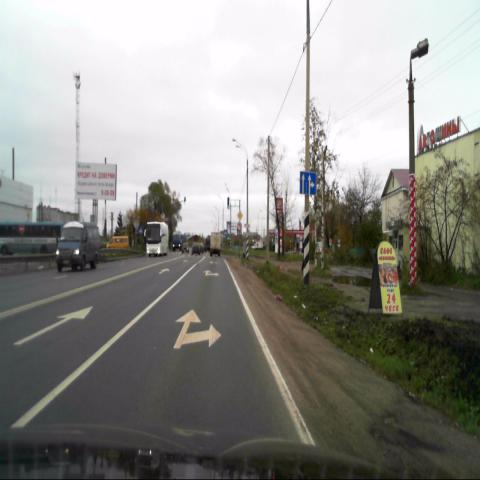5_15_2_2: (300, 170, 316, 194)
